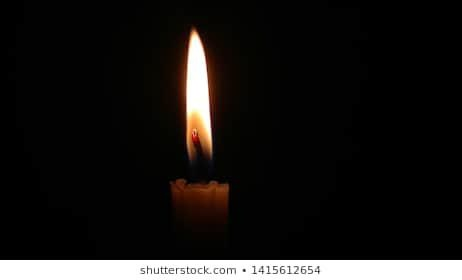fire: (181, 23, 213, 170)
